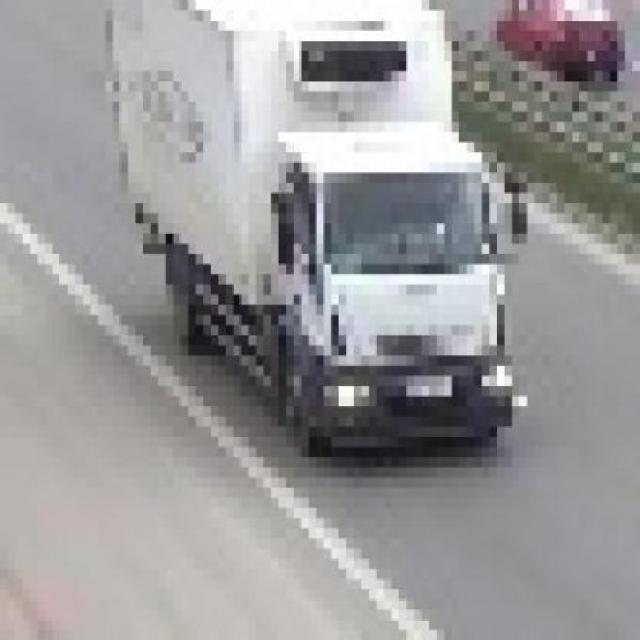truck: (114, 1, 536, 449)
